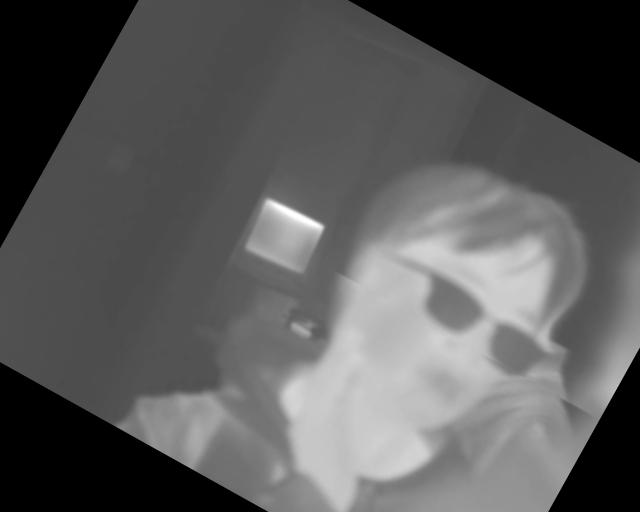face: (283, 120, 611, 463)
